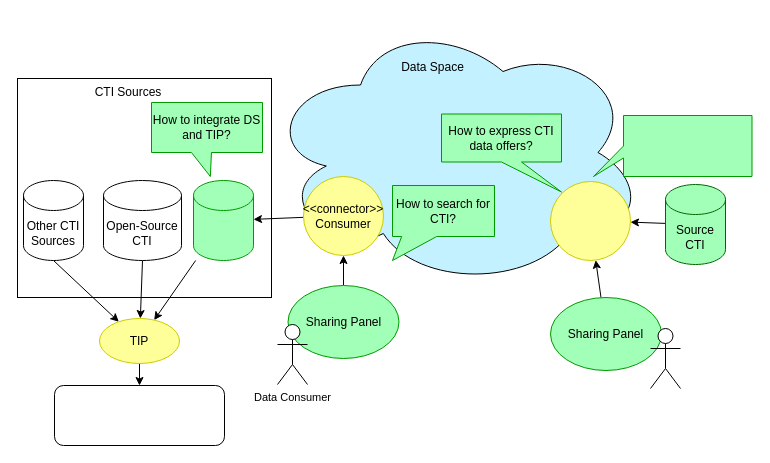
The diagram is 770 pixels wide and 463 high, and some of its shapes have lost their labels. Here are the shapes that lost their labels. From the top down, the centre of each, then its label:
At pixel 672 145: "How to express CTI usage policies?".
At pixel 223 220: "Sink CTI".
At pixel 590 220: "<<connector>> Provider".
At pixel 665 358: "Data owner".
At pixel 139 415: "Security Tools: SIEM / Firewall / IPS / SOAR".
